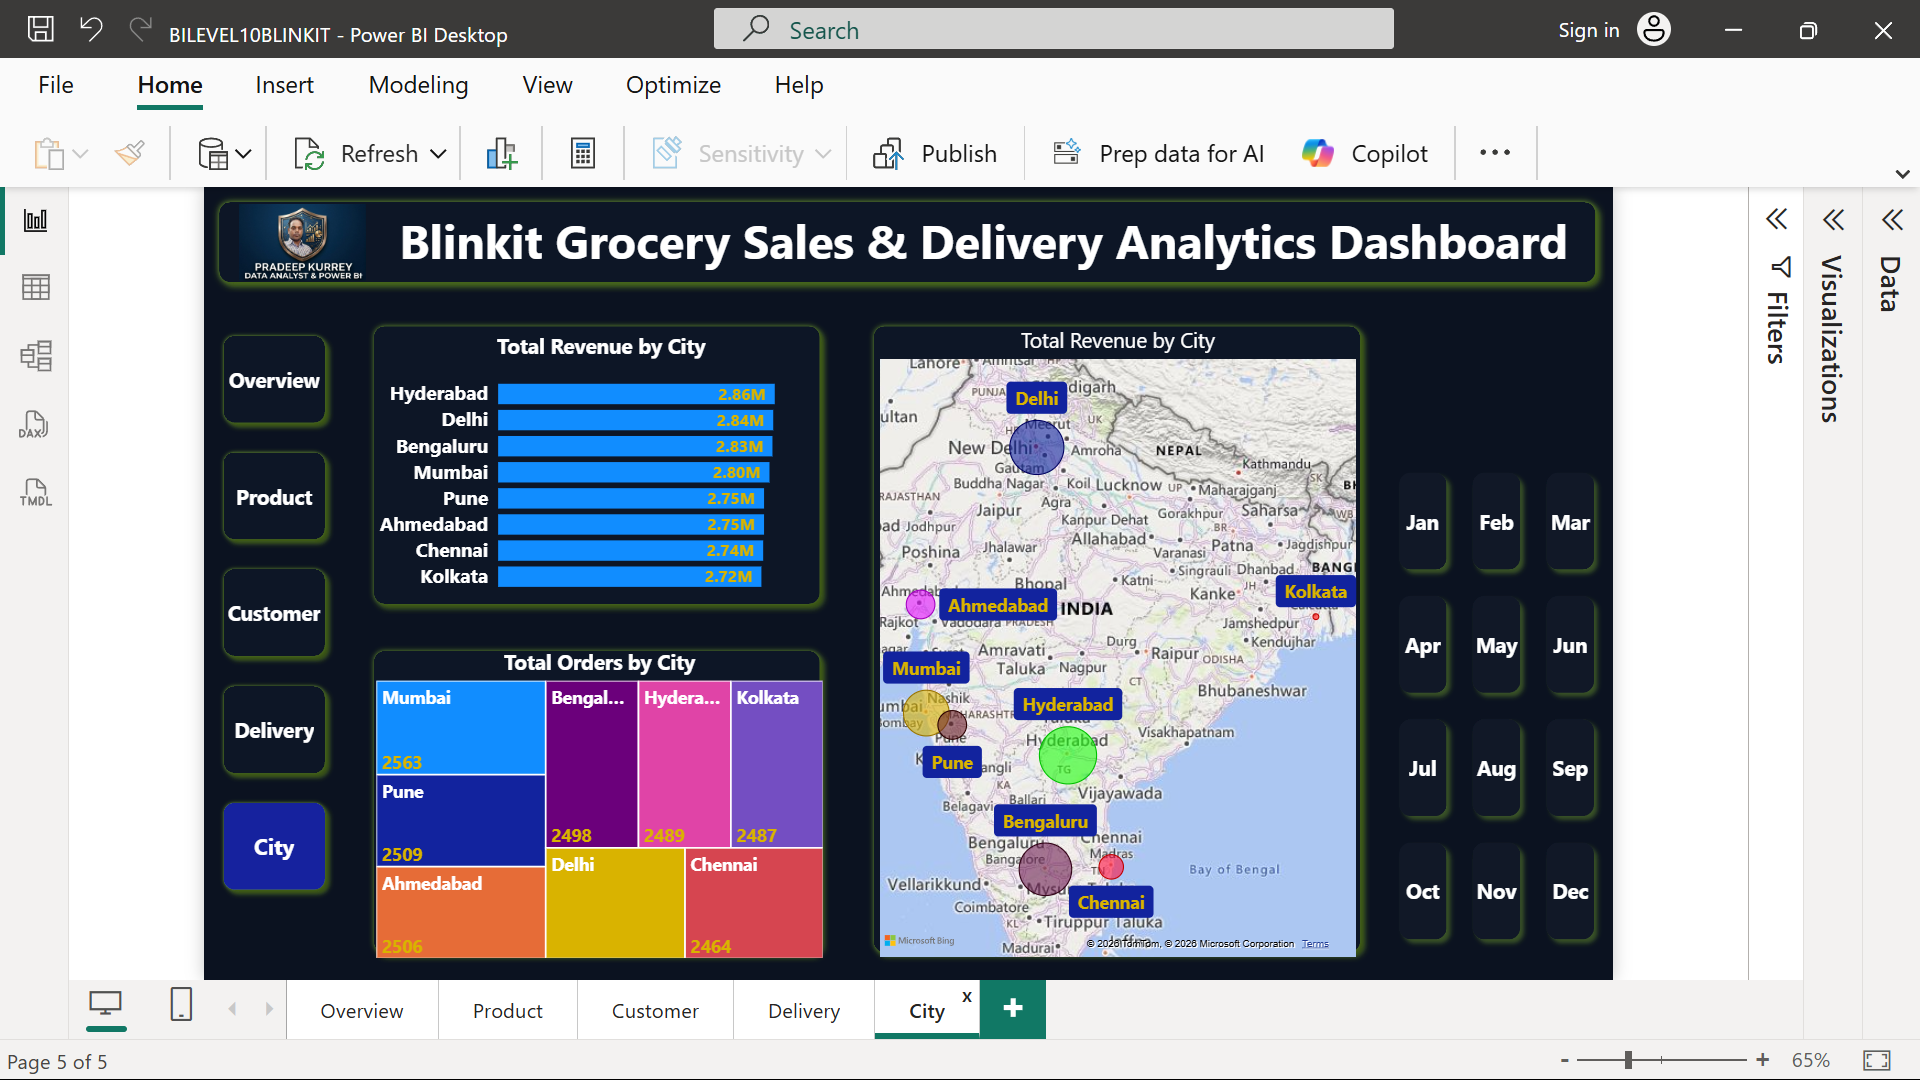

The page's visual inventory and layout, read from the dashboard file:
{"tool":"powerbi","page":{"name":"City","canvas":[1280,720],"ordinal":4},"visuals":[{"type":"shape","box":[4.5,4.5,1268.2,90.9],"z":0},{"type":"textbox","box":[9.1,13.6,1247.7,70.5],"z":1000},{"type":"pageNavigator","box":[9.1,127.3,109.1,522.7],"z":2000},{"type":"advancedSlicerVisual","fields":{"Values":["Date Table.Month"]},"box":[1068.5,242.4,211.5,461.7],"z":3000},{"type":"image","box":[7.5,14.9,164,69.6],"z":4000},{"type":"shape","box":[145.4,117.8,423.2,270.5],"z":5000},{"type":"shape","box":[599.8,117.8,460,587],"z":6000},{"type":"shape","box":[145.4,412.2,423.2,292.6],"z":7000},{"type":"clusteredBarChart","fields":{"Y":["Date Table.Total Revenue"],"Category":["Sheet1.City"]},"box":[152.7,130.6,415.8,246.6],"z":8000},{"type":"treemap","fields":{"Group":["Sheet1.City"],"Values":["Date Table.Total Orders"]},"box":[150.9,417.7,415.8,287],"z":9000},{"type":"map","fields":{"Category":["Sheet1.City"],"Size":["Date Table.Total Revenue"]},"box":[609.1,127,443.4,577.8],"z":10000}]}

Visuals, with their boxes on the page's 1280x720 design canvas (x1, y1, x2, y2). These are canvas units, not pixel positions in the 1920x1080 screenshot, which may show the page scaled, cropped or inside an application window:
shape: l=4, t=4, r=1273, b=95
textbox: l=9, t=14, r=1257, b=84
pageNavigator: l=9, t=127, r=118, b=650
advancedSlicerVisual - Date Table.Month: l=1068, t=242, r=1280, b=704
image: l=8, t=15, r=172, b=84
shape: l=145, t=118, r=569, b=388
shape: l=600, t=118, r=1060, b=705
shape: l=145, t=412, r=569, b=705
clusteredBarChart - Date Table.Total Revenue x Sheet1.City: l=153, t=131, r=568, b=377
treemap - Sheet1.City x Date Table.Total Orders: l=151, t=418, r=567, b=705
map - Sheet1.City x Date Table.Total Revenue: l=609, t=127, r=1052, b=705
